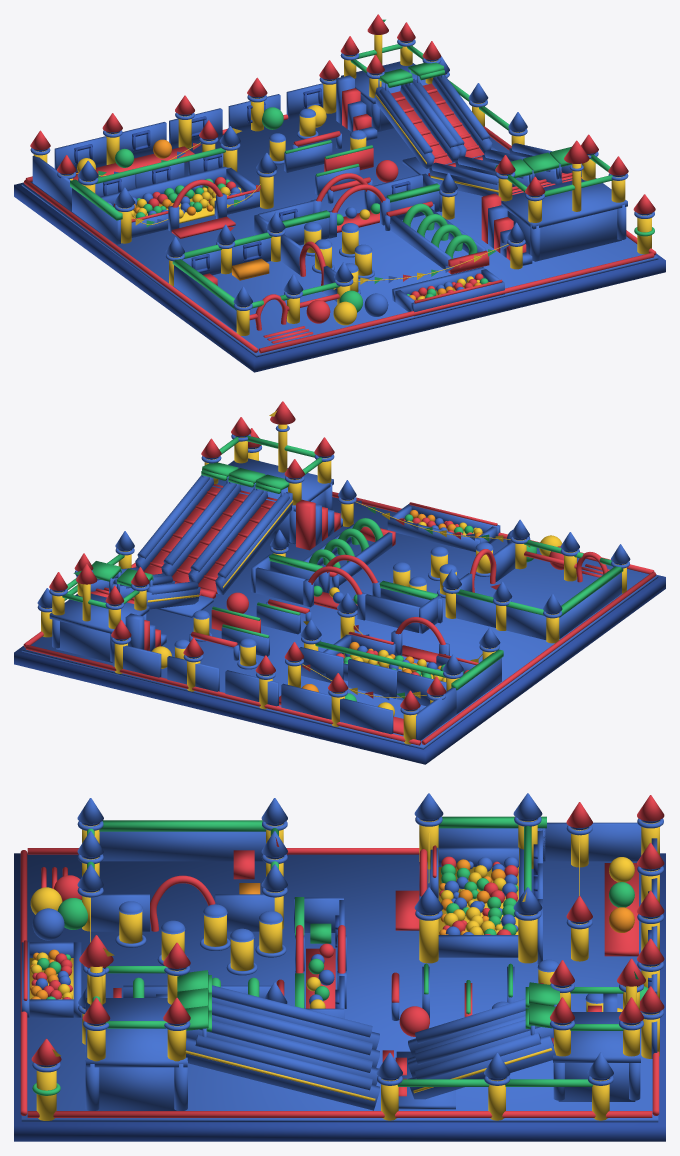
File: bouncy_castle.glb
3 renders of one model, top to bottom at view 1: azimuth 30°, elevation 25°; view 2: azimuth 150°, elevation 25°; view 3: azimuth 270°, elevation 25°, orthographic. The views are drawn at different scales.
Parts seen in each view (by area): view 1: Deck, Base, Tower body, Tower deck, Trim front, Trim left, Hall side, Grand side, Rear side, Grand pit wall.001, Tunnel wall L, North wall A panel (+32 smaller); view 2: Deck, Base, Trim back, Trim left, Tower2 body, Tower2 deck, Grand wall B panel, Tower deck, Hall side, North wall A panel, Back room back A panel, Back room back C panel (+35 smaller); view 3: Deck, Base, Hall side, Tower deck, Trim right, Slide wall.005, Tower body, Rear side, Tower2 deck, Slide bulge.005, Slide bulge, Slide bulge.004 (+66 smaller).
Boxes of the visible parts, x1,y1,x2,y2 form: Deck: [21, 111, 658, 357]; Base: [14, 182, 665, 372]; Tower body: [507, 209, 621, 261]; Tower deck: [501, 178, 627, 229]; Trim front: [258, 252, 654, 353]; Trim left: [23, 179, 258, 352]; Hall side: [174, 265, 236, 331]; Grand side: [72, 188, 120, 244]; Rear side: [32, 156, 71, 211]; Grand pit wall.001: [100, 166, 230, 207]; Tunnel wall L: [390, 215, 451, 270]; North wall A panel: [54, 136, 106, 172]; Deck: [21, 497, 658, 749]; Base: [14, 574, 665, 764]; Trim back: [25, 645, 421, 745]; Trim left: [421, 571, 656, 744]; Tower2 body: [56, 621, 112, 662]; Tower2 deck: [49, 593, 149, 633]; Grand wall B panel: [348, 659, 397, 698]; Tower deck: [212, 458, 333, 511]; Hall side: [559, 572, 621, 638]; North wall A panel: [340, 698, 393, 738]; Back room back A panel: [365, 594, 420, 632]; Back room back C panel: [255, 567, 305, 604]; Deck: [21, 853, 658, 1122]; Base: [14, 853, 665, 1141]; Hall side: [99, 831, 265, 861]; Tower deck: [86, 998, 187, 1067]; Trim right: [27, 1111, 652, 1117]; Slide wall.005: [186, 1037, 379, 1110]; Tower body: [96, 1067, 176, 1110]; Rear side: [538, 822, 641, 861]; Tower2 deck: [553, 1012, 640, 1062]; Slide bulge.005: [195, 1034, 372, 1090]; Slide bulge: [212, 985, 372, 1037]; Slide bulge.004: [199, 1021, 372, 1072].
Size of what is drawn, in the model's own units: 16.81 by 4.82 by 17.
